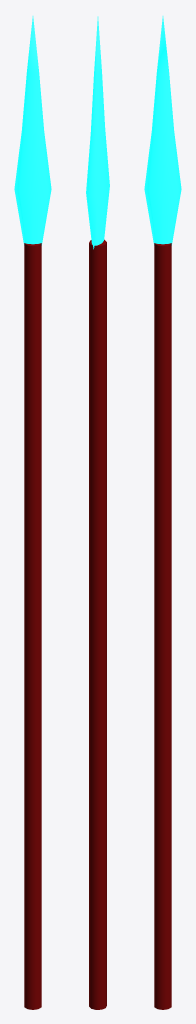
File: Spear_mesh.fbx
3 views of the same model, side by side, from view 1: azimuth 90°, elevation 25°; view 2: azimuth 150°, elevation 25°; view 3: azimuth 270°, elevation 25° (orthographic).
Visible parts, largest first — view 1: Spear_Mesh; view 2: Spear_Mesh; view 3: Spear_Mesh.
Part boxes in pixels (box(x1,y1,x2,y2)): Spear_Mesh: box(14, 16, 51, 1009); Spear_Mesh: box(86, 16, 109, 1009); Spear_Mesh: box(144, 16, 181, 1009).
Size of the model in its own units: 6.04 by 12.45 by 367.
